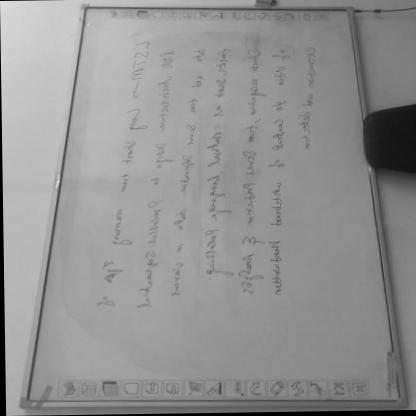Handwritten text: (88, 32, 156, 318), (128, 42, 183, 317), (192, 43, 252, 287), (160, 37, 211, 304), (231, 42, 269, 298), (263, 42, 294, 299), (289, 31, 325, 153)
Whiteboard: (21, 4, 405, 407)
